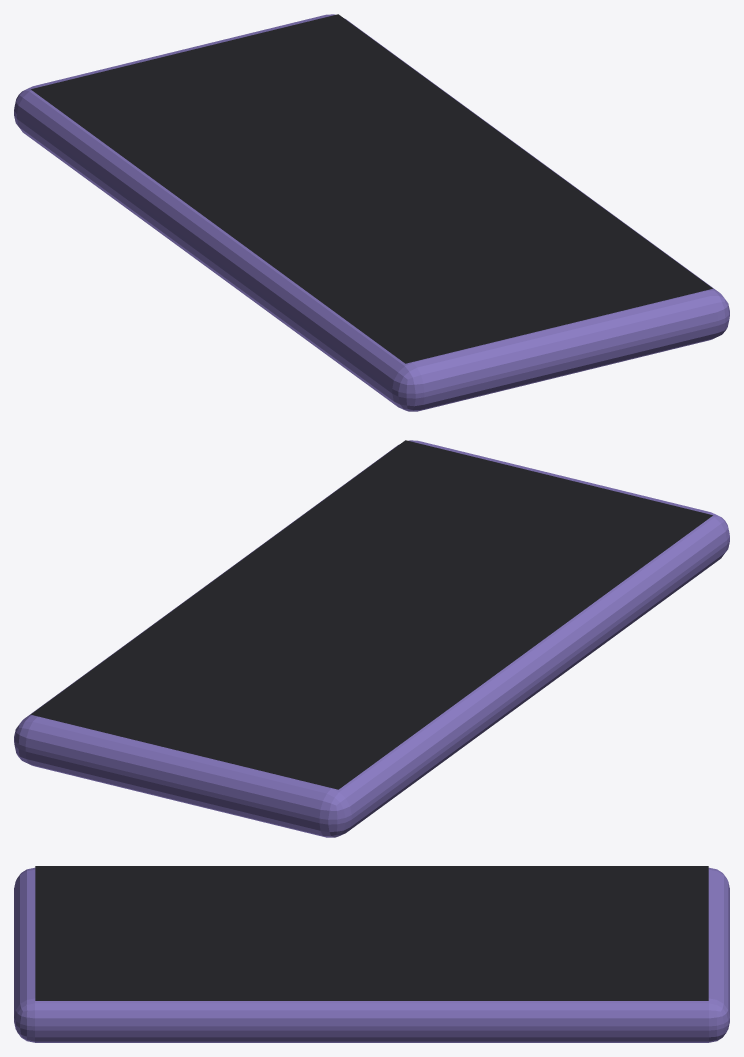
File: xiaomi-redmi-model-112-budget-2022.glb
3 views of the same model, one above another, from view 1: azimuth 30°, elevation 25°; view 2: azimuth 150°, elevation 25°; view 3: azimuth 270°, elevation 25° (orthographic). The views are drawn at different scales.
Parts seen in each view (by area): view 1: Phone_Screen, Phone_Body; view 2: Phone_Screen, Phone_Body; view 3: Phone_Screen, Phone_Body.
Part boxes in pixels (left/top/right/bottom): Phone_Screen: left=31, top=14, right=712, bottom=363; Phone_Body: left=14, top=14, right=729, bottom=411; Phone_Screen: left=31, top=440, right=712, bottom=789; Phone_Body: left=14, top=440, right=729, bottom=837; Phone_Screen: left=35, top=866, right=708, bottom=1000; Phone_Body: left=14, top=867, right=729, bottom=1042.
Bounding box in the file's own units: 0.0718 × 0.0098 × 0.1482.
